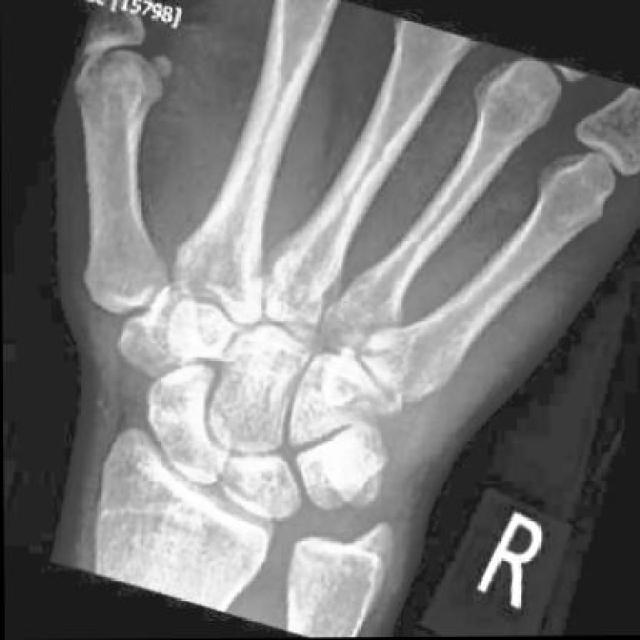Fracture: (320, 340, 408, 438)
